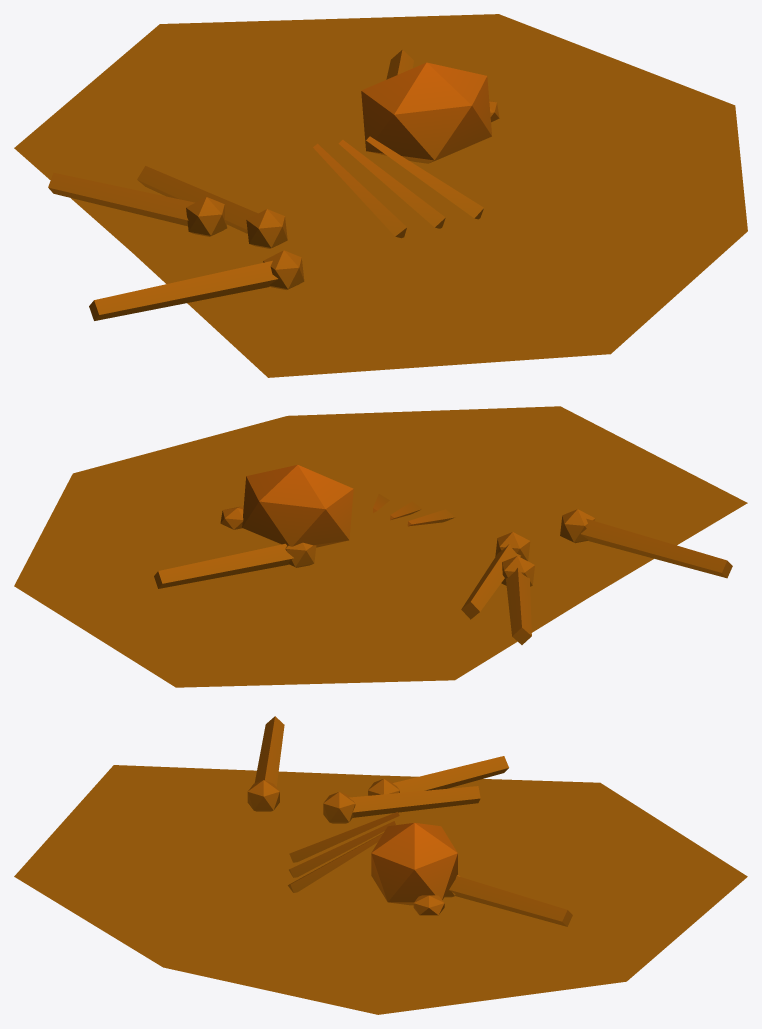
Rendered from SM_Nature_Ossements.fbx.
The picture shows the model from 3 angles, top to bottom: view 1: azimuth 30°, elevation 25°; view 2: azimuth 150°, elevation 25°; view 3: azimuth 270°, elevation 25°; orthographic projection. The views are drawn at different scales.
Visible parts, largest first — view 1: SM_Nature_Ossements_LOD0; view 2: SM_Nature_Ossements_LOD0; view 3: SM_Nature_Ossements_LOD0.
Boxes of the visible parts, left/top/right/bottom form: SM_Nature_Ossements_LOD0: left=14, top=14, right=747, bottom=377; SM_Nature_Ossements_LOD0: left=14, top=406, right=747, bottom=687; SM_Nature_Ossements_LOD0: left=14, top=716, right=747, bottom=1014.
Size of what is drawn, in the model's own units: 0.9104 by 0.129 by 1.01.
